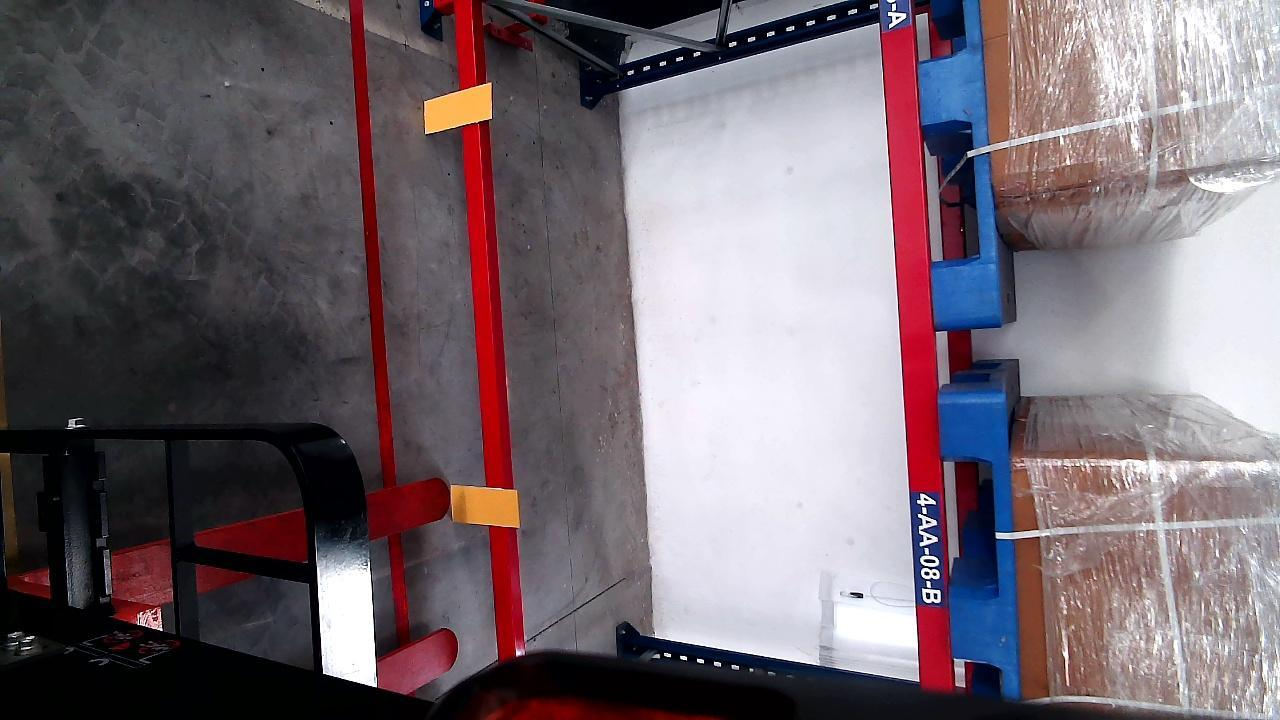red_line: (351, 1, 409, 650)
